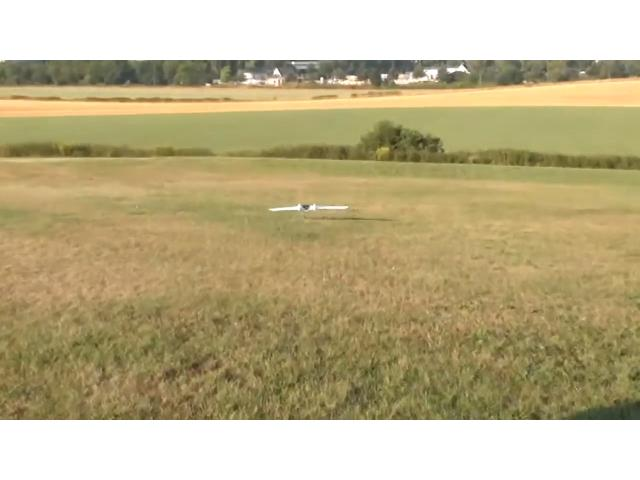Anti-Drone: (246, 188, 380, 229)
